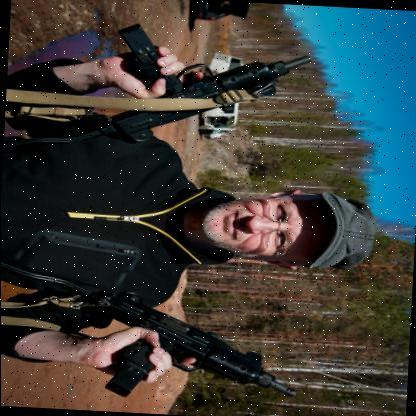rifle: (72, 288, 304, 408), (104, 22, 314, 154)
